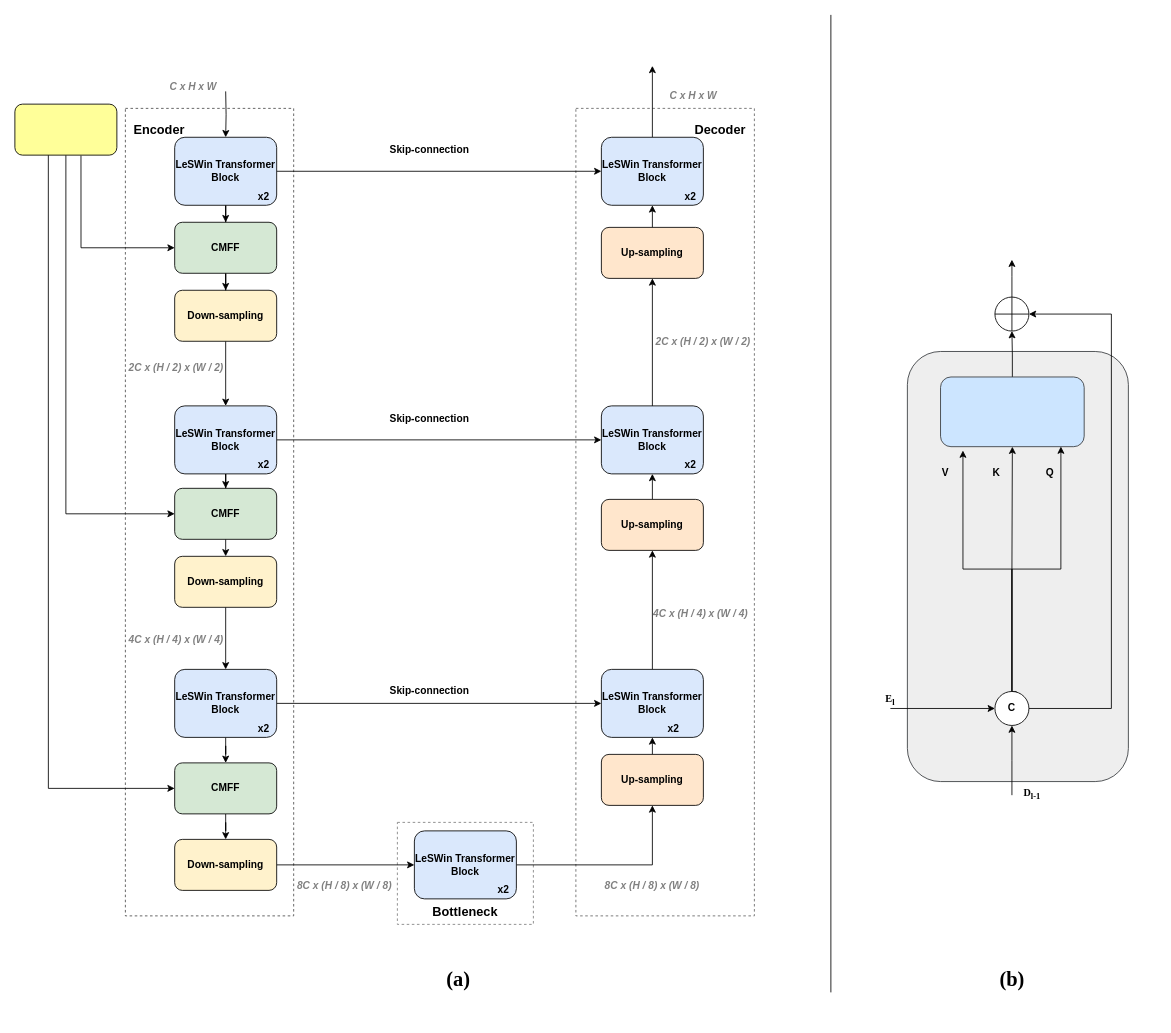
This 1171x1033 diagram has some shape labels left out. The centre of each missing label's shape, as x and y in pixels:
"Supervise Block" goes at [65,129].
"W - MSA" goes at [1012,411].
